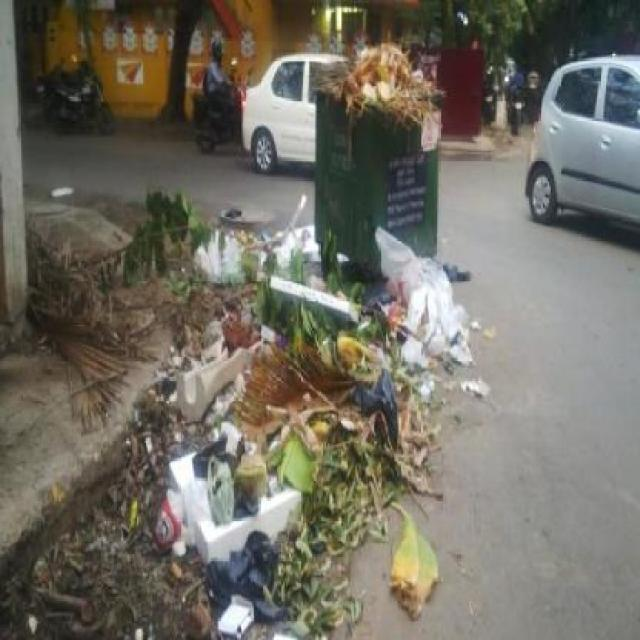garbage: (137, 183, 320, 633), (326, 242, 382, 638), (23, 219, 134, 398), (385, 234, 437, 492), (37, 505, 131, 636), (313, 53, 450, 119), (440, 255, 496, 392), (392, 506, 436, 612)
